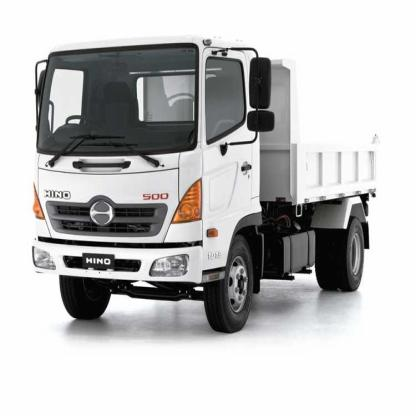dump_truck: (35, 24, 374, 347)
